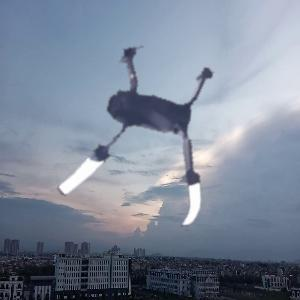drone: (32, 22, 252, 242)
